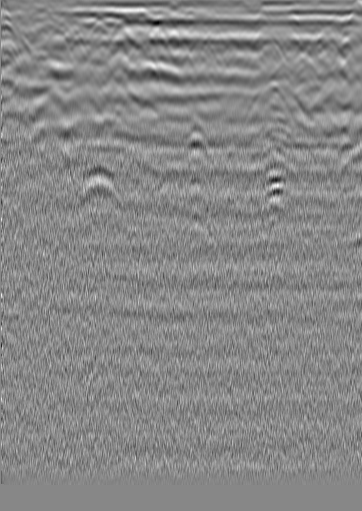가스: (261, 169, 290, 203)
상수: (2, 23, 22, 43)
오수: (313, 35, 333, 55)
우수: (148, 31, 168, 51)
